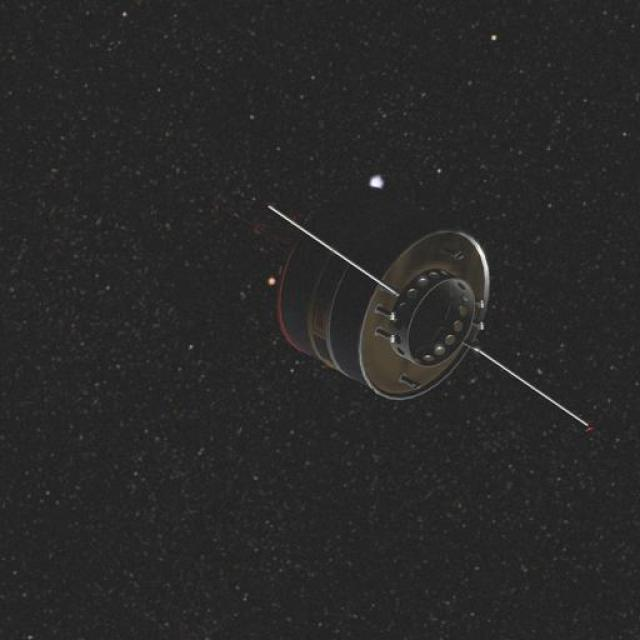double_start: (242, 156, 539, 430)
